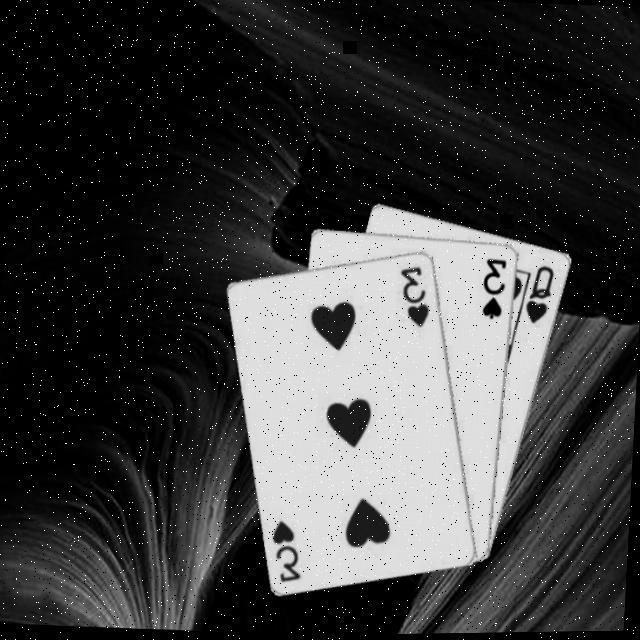3H: (266, 518, 306, 588), (394, 265, 433, 333)
3S: (478, 259, 509, 325)
QH: (522, 264, 556, 330)
